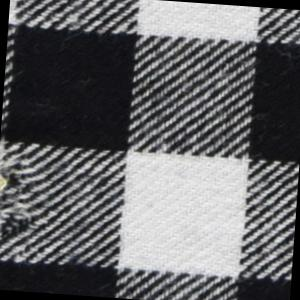Damage: (1, 142, 60, 256)
